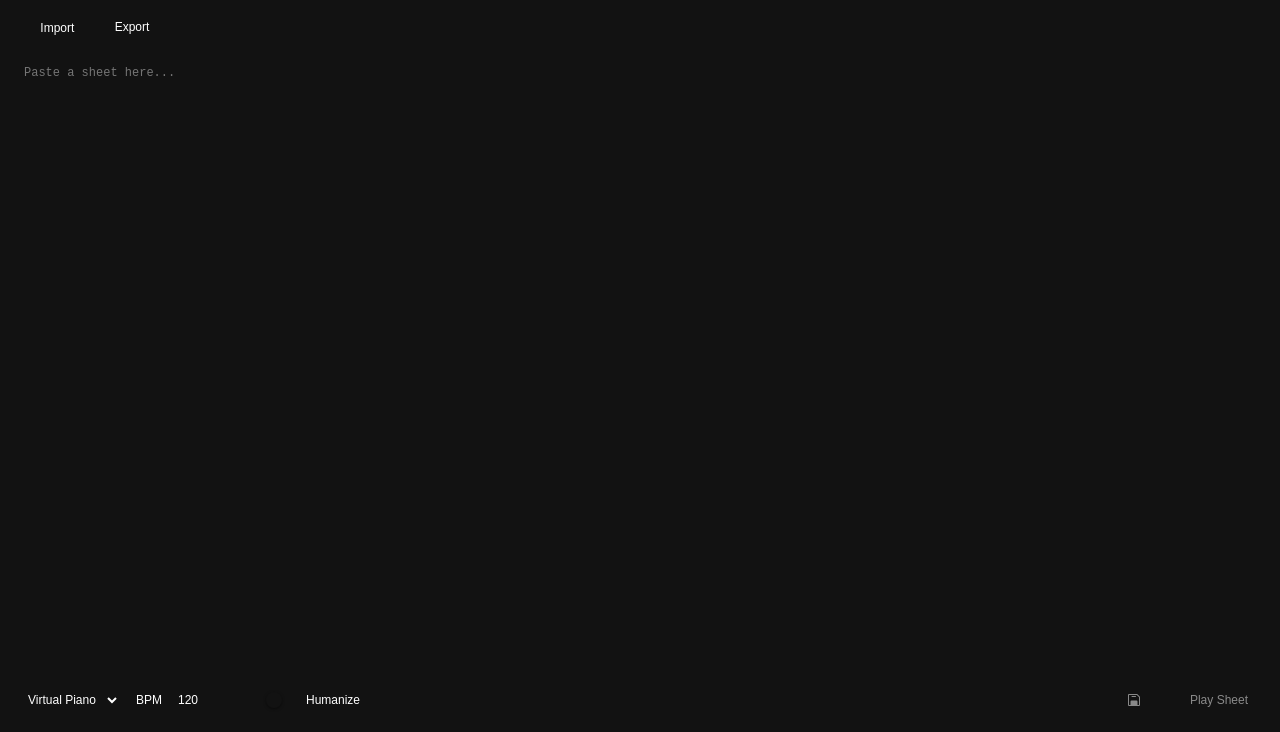
Test: TranslatorTab export without a song › asks the user to load a MIDI file first
Click the button "Export": click(132, 27) top-left (99, 12), bottom-right (165, 42)
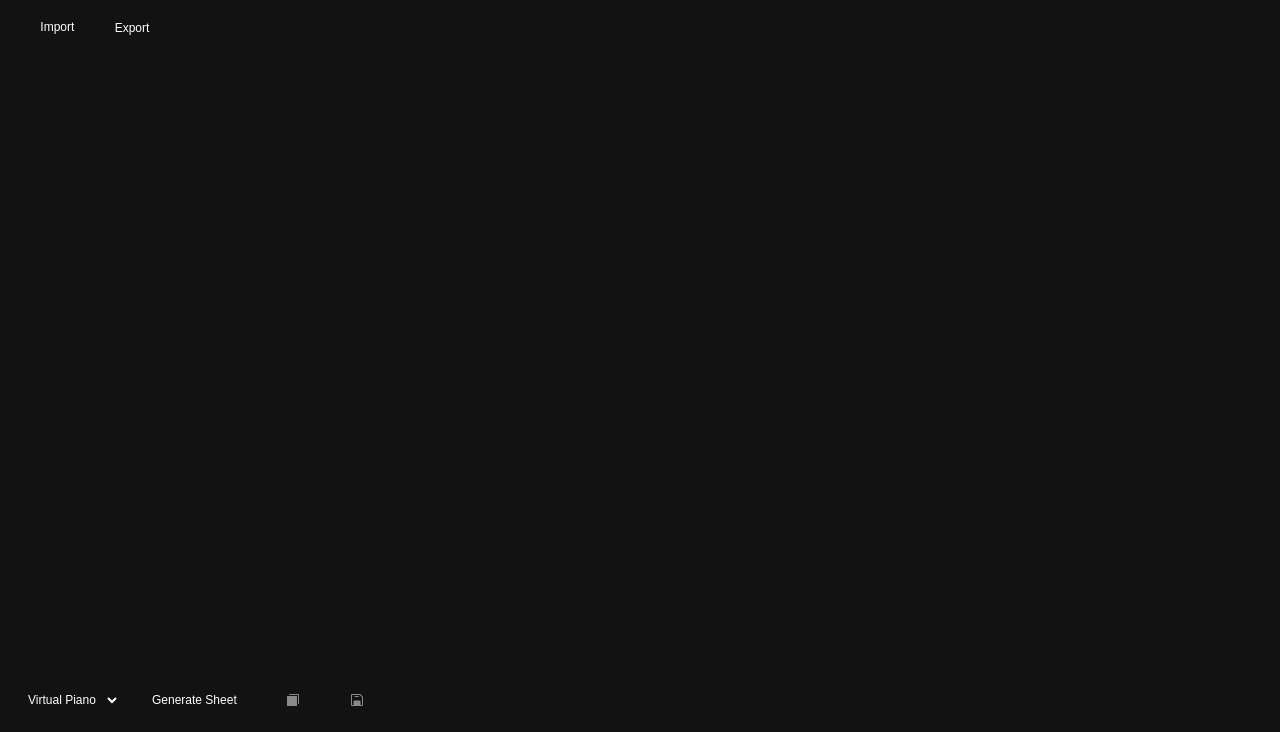
Click the button "Generate Sheet": click(194, 700) top-left (136, 685), bottom-right (253, 715)
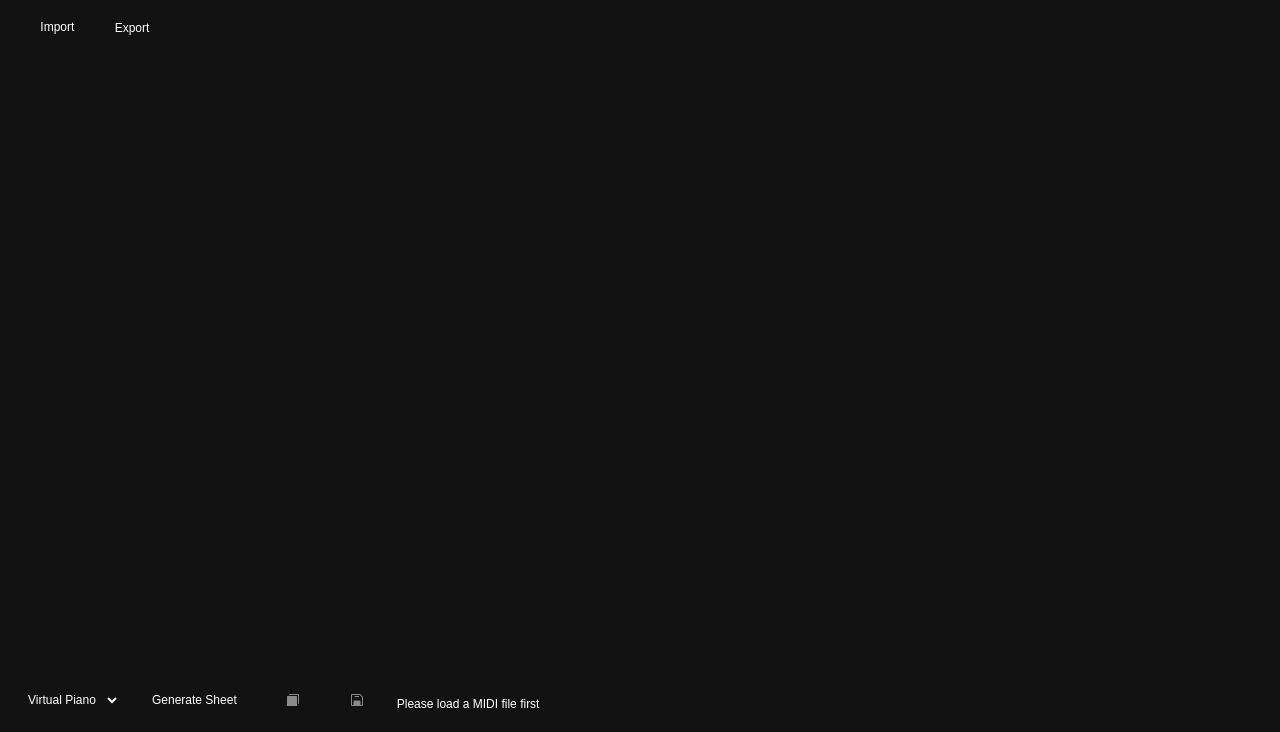
Expected: the text "Please load a MIDI file first" is shown, top-left (397, 697), bottom-right (539, 711)
